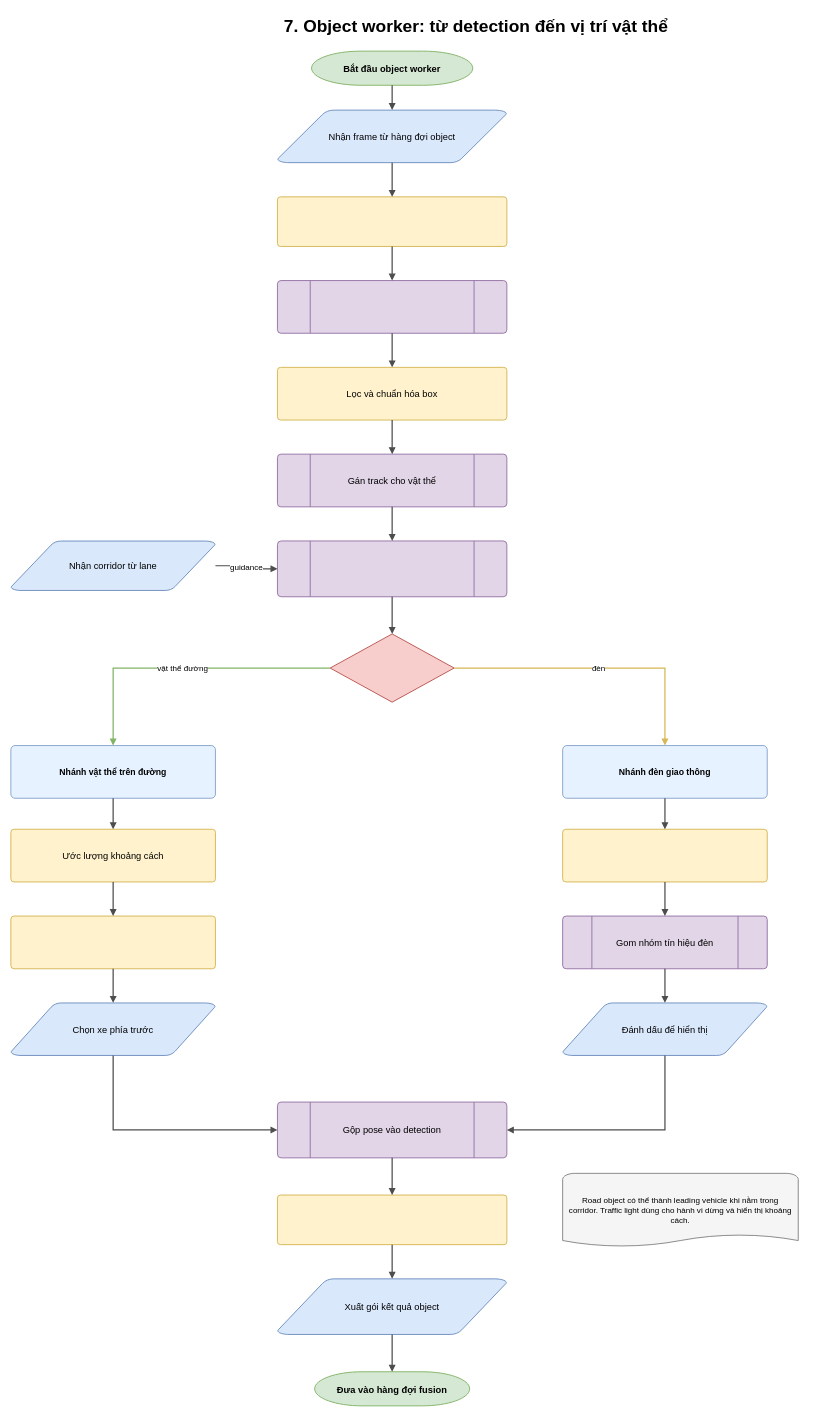
This 834x1417 diagram has some shape labels left out. Here are the shapes that lost their labels. From the top down, the box of each, then its label:
(277, 196, 507, 247): Chuẩn bị ảnh cho mô hình object
(277, 280, 507, 333): Chạy mô hình phát hiện vật thể
(277, 540, 507, 597): Định vị từng detection
(329, 633, 454, 702): Loại vật thể?
(562, 829, 767, 882): Ước lượng vị trí đèn
(10, 915, 216, 969): Kiểm tra nằm trong corridor
(277, 1194, 507, 1245): Dọn state cũ
